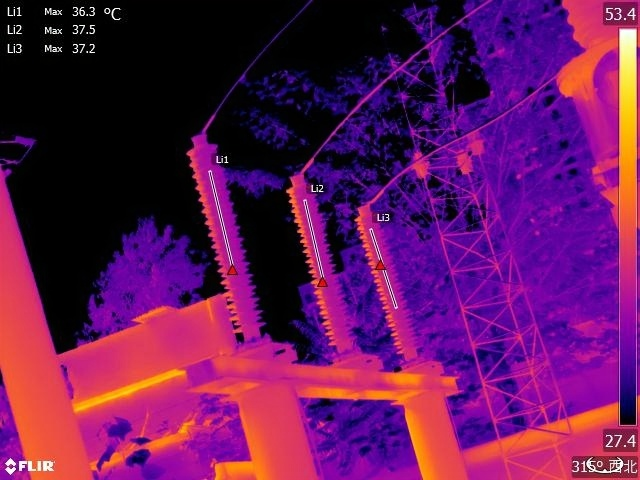lightning arrester: (184, 128, 272, 339), (287, 164, 362, 358), (353, 202, 423, 361)
